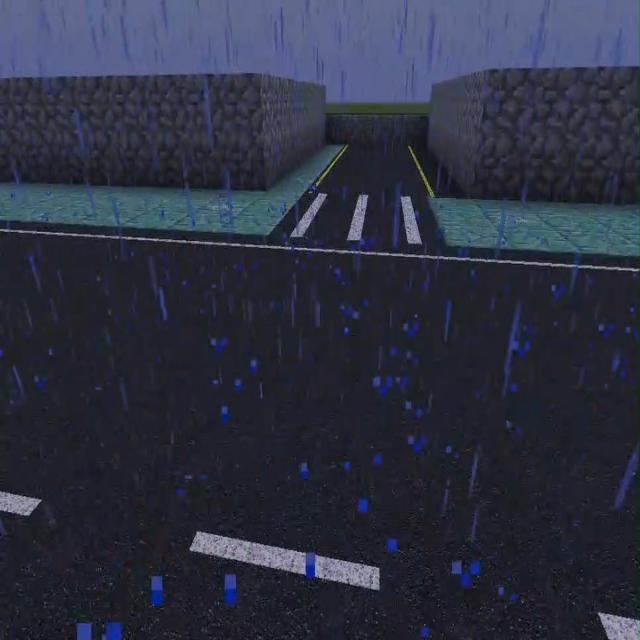8: (275, 194, 446, 244)
crosswalk: (0, 230, 639, 639), (311, 145, 466, 192)
road: (1, 143, 339, 232), (430, 196, 639, 257)
